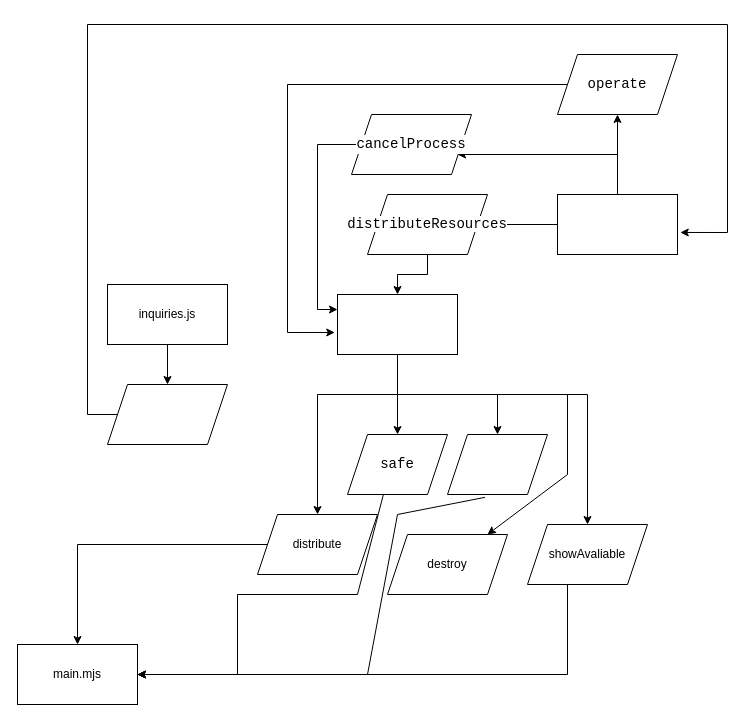
Some shapes in this 753 by 722 pixel diagram are drawn without their labels. The shapes that lost their labels are listed below. From the top down, each one's centre as x and y in pixels, then its label:
the point at 617,224: prompt.mjs
the point at 397,324: hooks.mjs
the point at 167,414: inquiries.default
the point at 497,464: display
